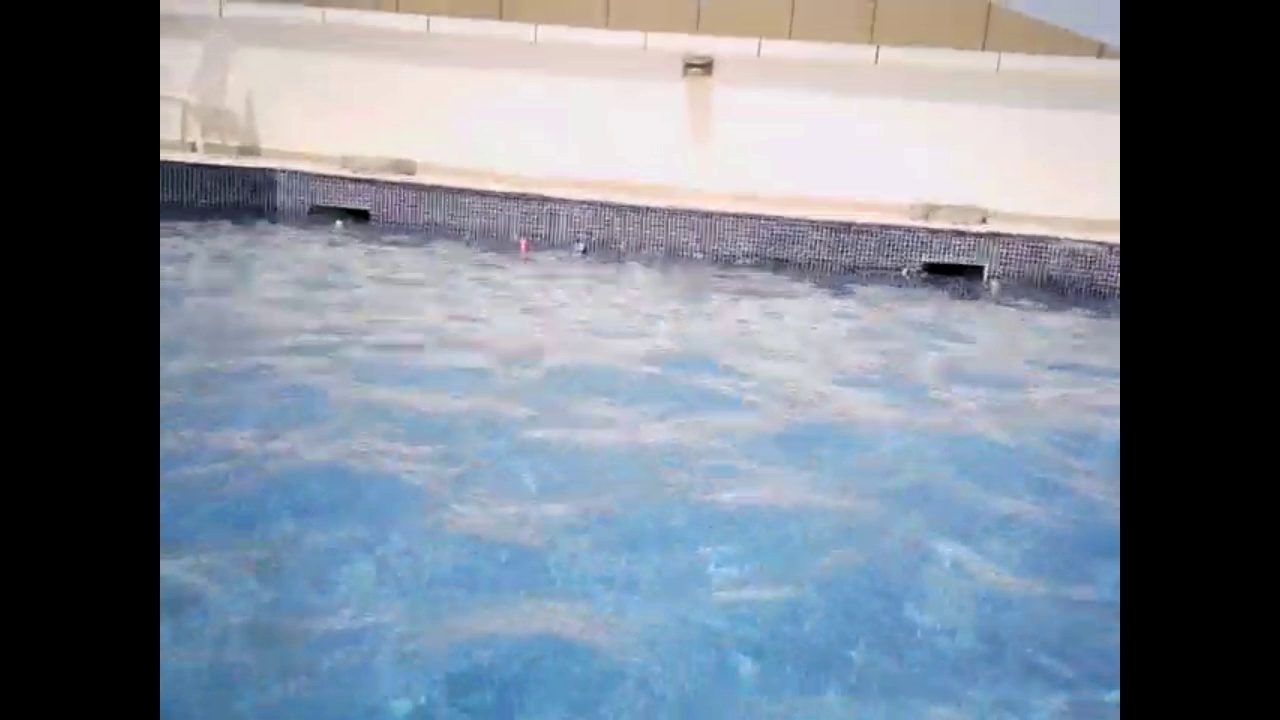debris: (986, 271, 1005, 299), (566, 237, 590, 255), (514, 234, 530, 253), (328, 217, 347, 232)
